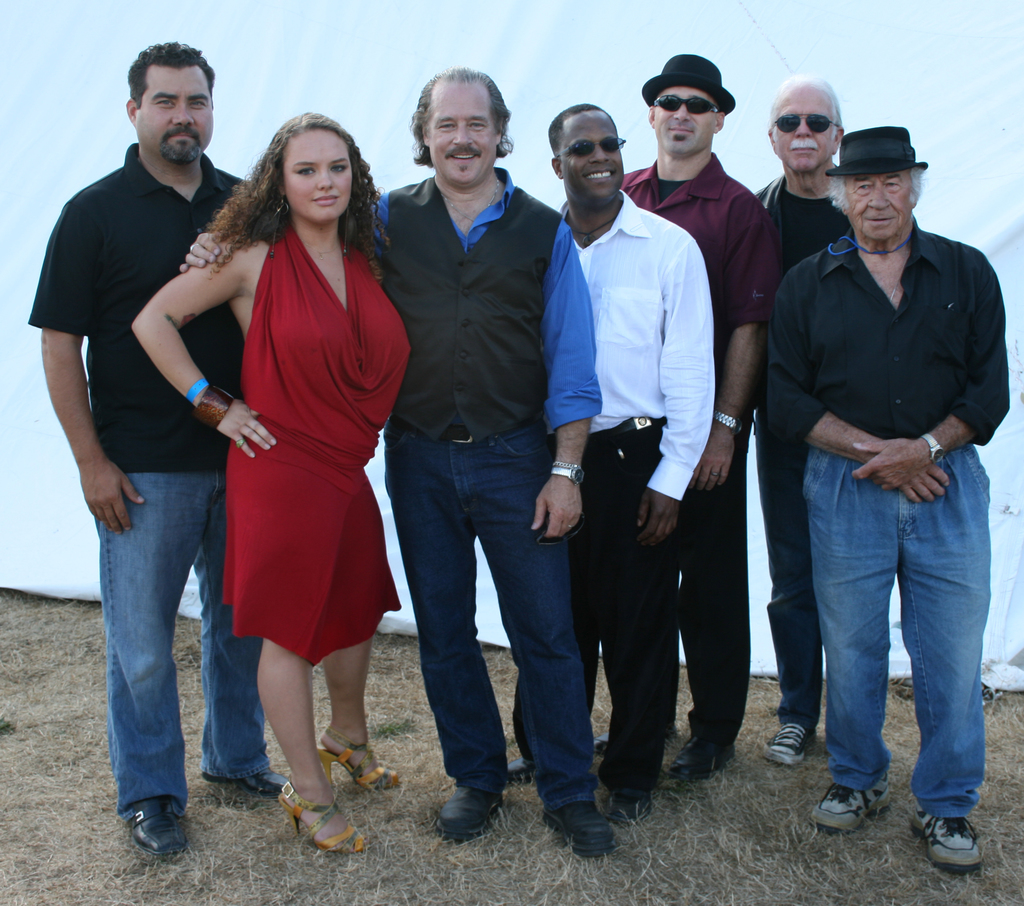Footwear: (279, 782, 372, 856), (910, 805, 989, 875), (316, 726, 397, 793), (812, 775, 890, 837), (540, 794, 617, 856), (435, 783, 507, 834), (671, 729, 735, 783), (131, 807, 189, 853), (209, 769, 294, 800), (767, 723, 819, 766), (607, 787, 644, 822), (502, 763, 533, 783), (595, 732, 611, 755)
